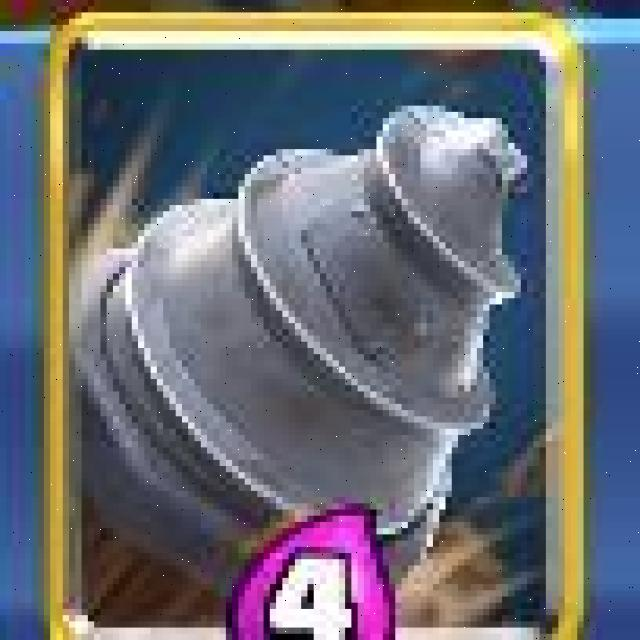Goblin_Drill: (45, 10, 589, 638)
